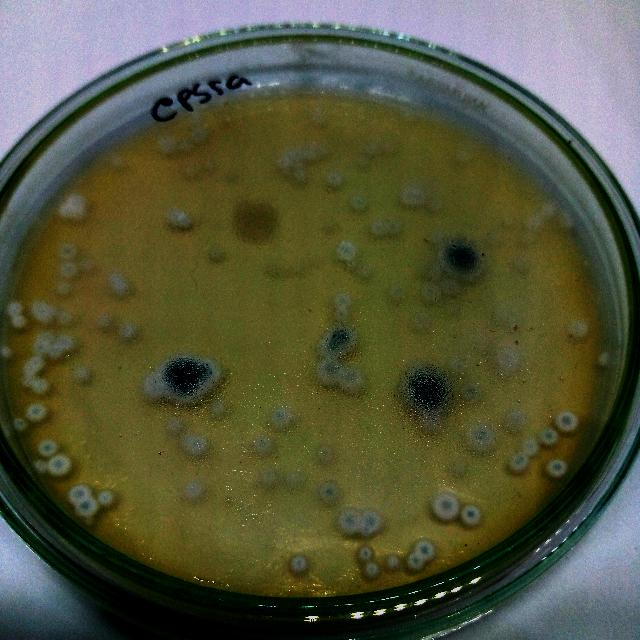colony: (228, 197, 284, 251), (396, 361, 452, 413), (163, 353, 204, 402), (441, 239, 483, 281), (488, 292, 528, 332), (320, 322, 358, 358), (428, 490, 464, 526), (190, 354, 226, 388), (312, 356, 346, 388), (337, 362, 368, 396), (463, 420, 495, 450), (335, 506, 365, 536), (493, 349, 523, 379), (248, 430, 276, 460), (414, 408, 444, 436), (446, 456, 474, 486), (407, 536, 439, 562), (267, 402, 295, 431), (358, 508, 386, 536), (182, 432, 212, 458), (284, 549, 312, 575), (64, 482, 92, 508), (141, 372, 165, 402), (358, 557, 384, 583), (398, 184, 424, 210), (330, 239, 356, 265), (279, 465, 305, 491), (501, 406, 527, 432), (566, 316, 592, 342), (378, 548, 402, 576), (460, 502, 484, 530), (46, 454, 74, 478), (507, 448, 531, 474), (512, 256, 538, 280), (402, 550, 426, 574), (76, 496, 100, 520), (25, 402, 49, 426), (30, 301, 54, 325), (304, 138, 328, 162), (306, 106, 330, 130), (544, 456, 568, 480), (384, 278, 408, 302), (258, 464, 280, 490), (181, 481, 205, 504), (555, 411, 579, 434), (172, 208, 194, 232), (206, 244, 228, 268), (418, 282, 440, 306), (526, 214, 550, 236), (451, 146, 472, 170), (354, 542, 376, 564), (118, 324, 140, 346), (108, 273, 130, 295), (178, 160, 200, 182), (276, 150, 298, 172), (288, 165, 310, 187), (322, 166, 344, 188), (319, 479, 341, 501), (536, 425, 558, 447), (353, 150, 375, 172), (354, 260, 374, 284), (165, 417, 187, 438), (56, 332, 78, 352), (54, 277, 74, 299), (154, 133, 174, 155), (519, 435, 539, 457), (556, 208, 576, 230), (424, 190, 444, 212), (36, 438, 59, 456), (97, 489, 117, 509), (350, 193, 370, 213), (590, 349, 610, 369), (188, 126, 210, 144), (109, 152, 128, 172), (11, 414, 29, 434), (32, 378, 50, 398), (72, 366, 92, 384), (55, 203, 75, 221), (67, 204, 87, 222), (198, 156, 218, 174), (334, 292, 354, 310), (518, 230, 538, 248), (65, 194, 87, 210), (462, 382, 481, 400), (46, 344, 64, 362), (56, 242, 74, 260), (174, 137, 192, 155), (332, 304, 350, 322), (314, 444, 332, 462), (540, 200, 558, 218), (444, 279, 462, 297), (58, 261, 78, 277), (38, 330, 56, 346), (28, 355, 46, 371), (10, 314, 28, 330), (208, 400, 226, 416), (5, 299, 22, 315), (1, 342, 16, 360), (32, 459, 48, 475), (32, 340, 48, 356), (370, 220, 384, 238), (95, 314, 112, 328), (57, 310, 73, 324), (386, 220, 400, 234)
